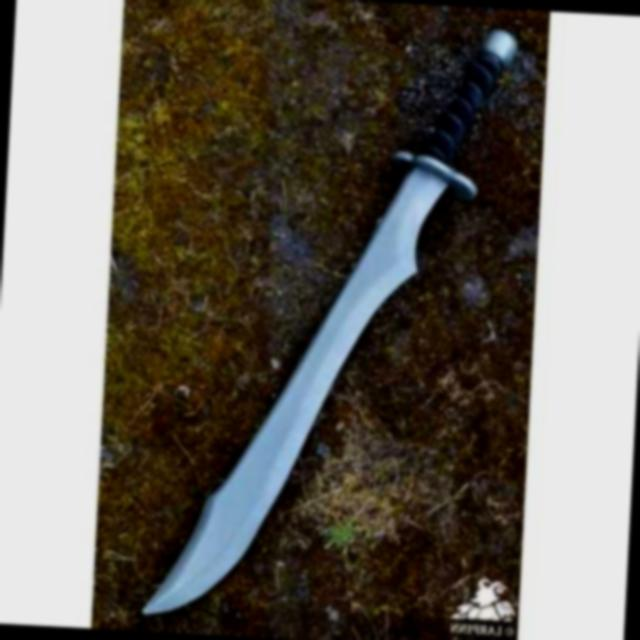short sword: (128, 3, 534, 640)
